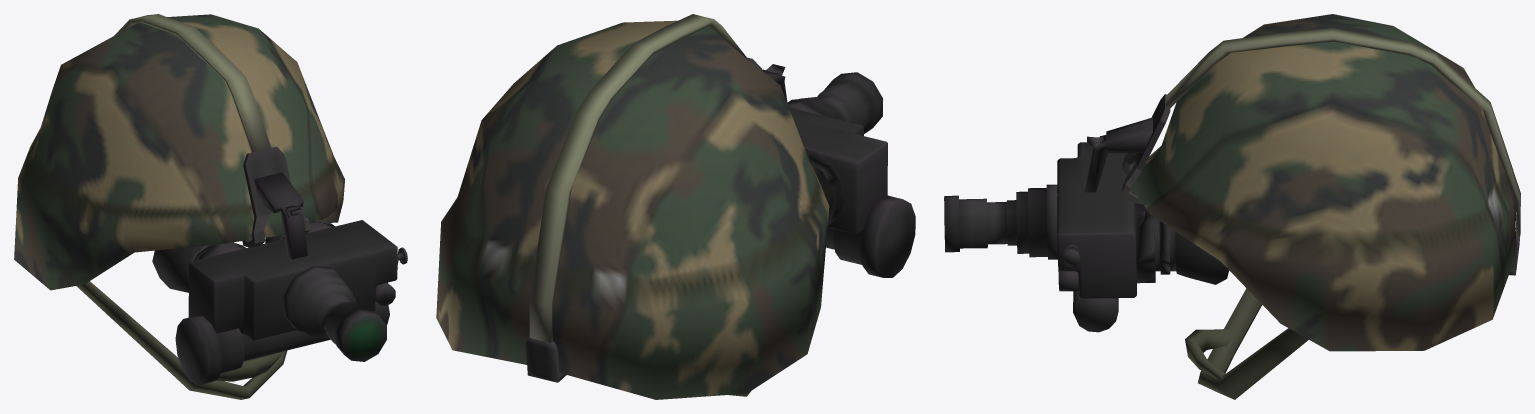
3 views of the same model, side by side, from view 1: azimuth 30°, elevation 25°; view 2: azimuth 150°, elevation 25°; view 3: azimuth 270°, elevation 25° (orthographic). The views are drawn at different scales.
Parts seen in each view (by area): view 1: 60jtdo54bx3q.011; view 2: 60jtdo54bx3q.011; view 3: 60jtdo54bx3q.011.
Boxes of the visible parts, <box> form: 60jtdo54bx3q.011: <box>14,14,407,399</box>; 60jtdo54bx3q.011: <box>436,14,915,399</box>; 60jtdo54bx3q.011: <box>944,14,1520,399</box>.
Size of the model in its own units: 0.00167 by 0.00192 by 0.0028.
